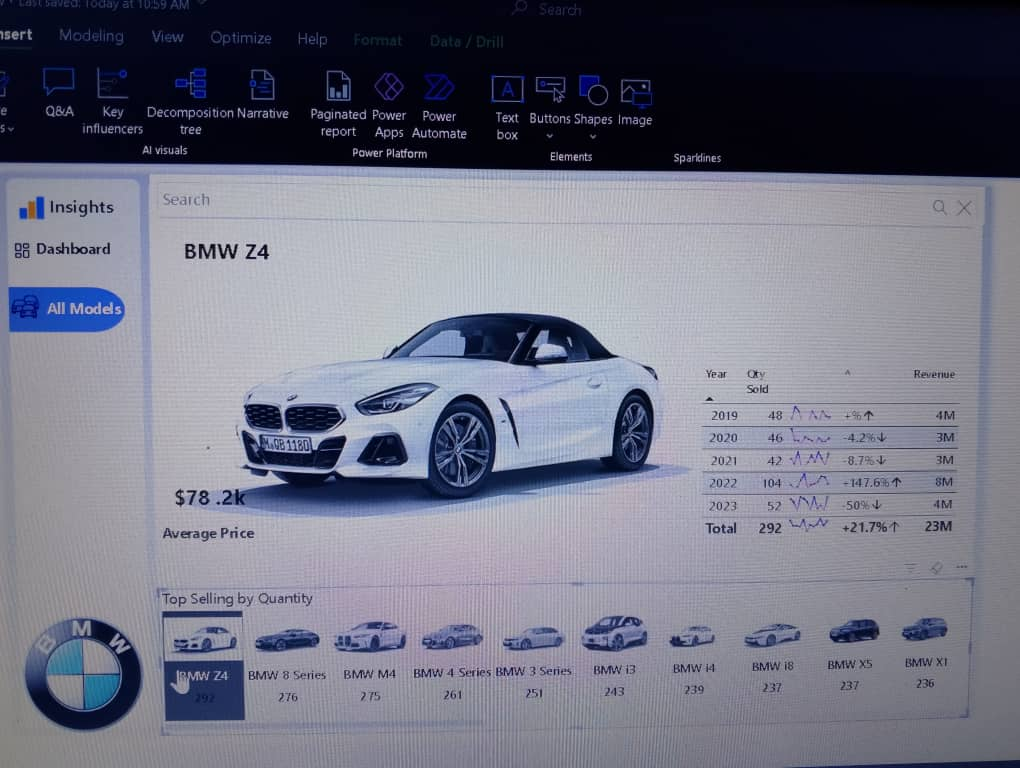

Layout of this report page (visuals, bound fields, positions):
{"tool":"powerbi","page":{"name":"All Models","canvas":[1280,720],"ordinal":1},"visuals":[{"type":"textSearchSlicerF85E2E78BE4A4D7D9F99ED75B5D71C85","fields":{"fields":["dimModel.Model"]},"box":[188.2,0,1082.9,50],"z":0},{"type":"advancedSlicerVisual","title":"Top Selling by Quantity ","fields":{"Values":["dimModel.Model"]},"box":[188.2,525,1082.9,194.7],"z":1000},{"type":"advancedSlicerVisual","title":"Top Selling by Quantity ","fields":{"Values":["dimModel.Model"]},"box":[188.2,50,720.7,475.3],"z":2000},{"type":"shape","box":[190.6,59.6,225.2,59.6],"z":3000},{"type":"shape","box":[159.2,385.5,194.7,40.8],"z":4000},{"type":"textbox","box":[190.8,435.5,152.6,47.4],"z":5000},{"type":"tableEx","title":"Qty Sold by Countries","fields":{"Values":["Calender.Year","All Measures.Quantity","All Measures.Quantity Sparkline","All Measures.Growth % with Arrow","All Measures.Revenue"]},"box":[883.9,190.6,387.2,334.8],"z":6000},{"type":"textbox","box":[52.6,150,127.6,57.9],"z":7000},{"type":"image","box":[9.2,140.8,43.4,50],"z":8000},{"type":"textbox","box":[40.8,75,118.4,42.1],"z":9000},{"type":"image","box":[9.2,80.3,39.5,31.6],"z":10000},{"type":"actionButton","box":[10.5,72.4,140.8,46.1],"z":11000},{"type":"actionButton","box":[0,140.8,159.2,50],"z":12000},{"type":"image","box":[0,555.3,180.3,164.5],"z":13000},{"type":"textbox","box":[58.4,20,115.8,46.1],"z":14000},{"type":"image","box":[17.6,20,50,43.4],"z":15000}]}

Visuals, with their boxes on the page's 1280x720 design canvas (x1, y1, x2, y2). These are canvas units, not pixel positions in the 1020x768 screenshot, which may show the page scaled, cropped or inside an application window:
textSearchSlicerF85E2E78BE4A4D7D9F99ED75B5D71C85 - dimModel.Model: {"left": 188, "top": 0, "right": 1271, "bottom": 50}
"Top Selling by Quantity " advancedSlicerVisual: {"left": 188, "top": 525, "right": 1271, "bottom": 720}
"Top Selling by Quantity " advancedSlicerVisual: {"left": 188, "top": 50, "right": 909, "bottom": 525}
shape: {"left": 191, "top": 60, "right": 416, "bottom": 119}
shape: {"left": 159, "top": 386, "right": 354, "bottom": 426}
textbox: {"left": 191, "top": 436, "right": 343, "bottom": 483}
"Qty Sold by Countries" tableEx: {"left": 884, "top": 191, "right": 1271, "bottom": 525}
textbox: {"left": 53, "top": 150, "right": 180, "bottom": 208}
image: {"left": 9, "top": 141, "right": 53, "bottom": 191}
textbox: {"left": 41, "top": 75, "right": 159, "bottom": 117}
image: {"left": 9, "top": 80, "right": 49, "bottom": 112}
actionButton: {"left": 10, "top": 72, "right": 151, "bottom": 118}
actionButton: {"left": 0, "top": 141, "right": 159, "bottom": 191}
image: {"left": 0, "top": 555, "right": 180, "bottom": 720}
textbox: {"left": 58, "top": 20, "right": 174, "bottom": 66}
image: {"left": 18, "top": 20, "right": 68, "bottom": 63}
